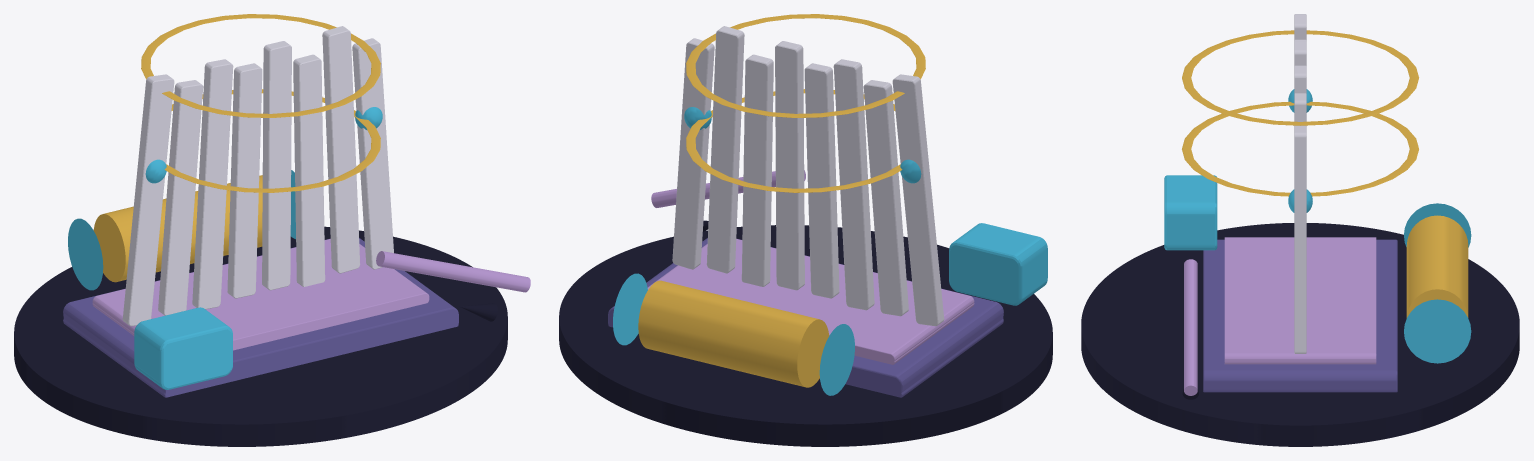
Rendered from 0748_先秦图鉴_“月有食”卜骨.glb.
3 views of the same model, side by side, from view 1: azimuth 30°, elevation 25°; view 2: azimuth 150°, elevation 25°; view 3: azimuth 270°, elevation 25° (orthographic). The views are drawn at different scales.
Visible parts, largest first — view 1: card_0748; view 2: card_0748; view 3: card_0748.
Part boxes in pixels (<box>): card_0748: <box>14,14,530,446</box>; card_0748: <box>559,14,1052,446</box>; card_0748: <box>1081,14,1519,446</box>.
Bounding box in the file's own units: 1.53 × 1 × 1.4.
